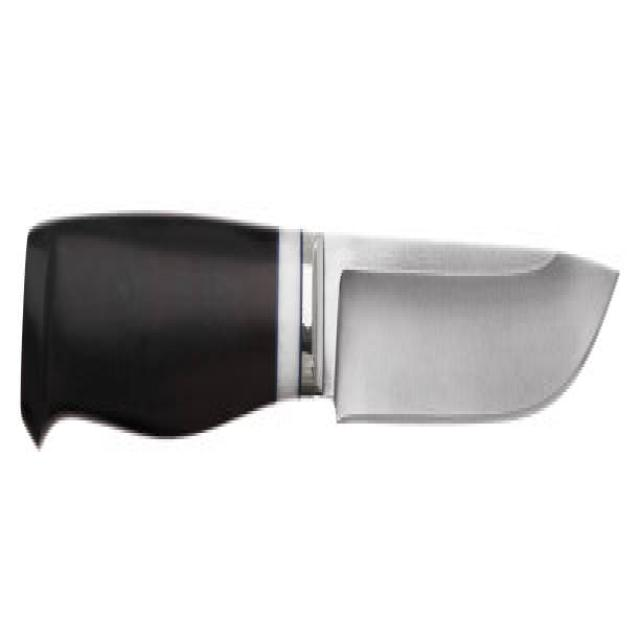knife: (13, 188, 631, 503)
